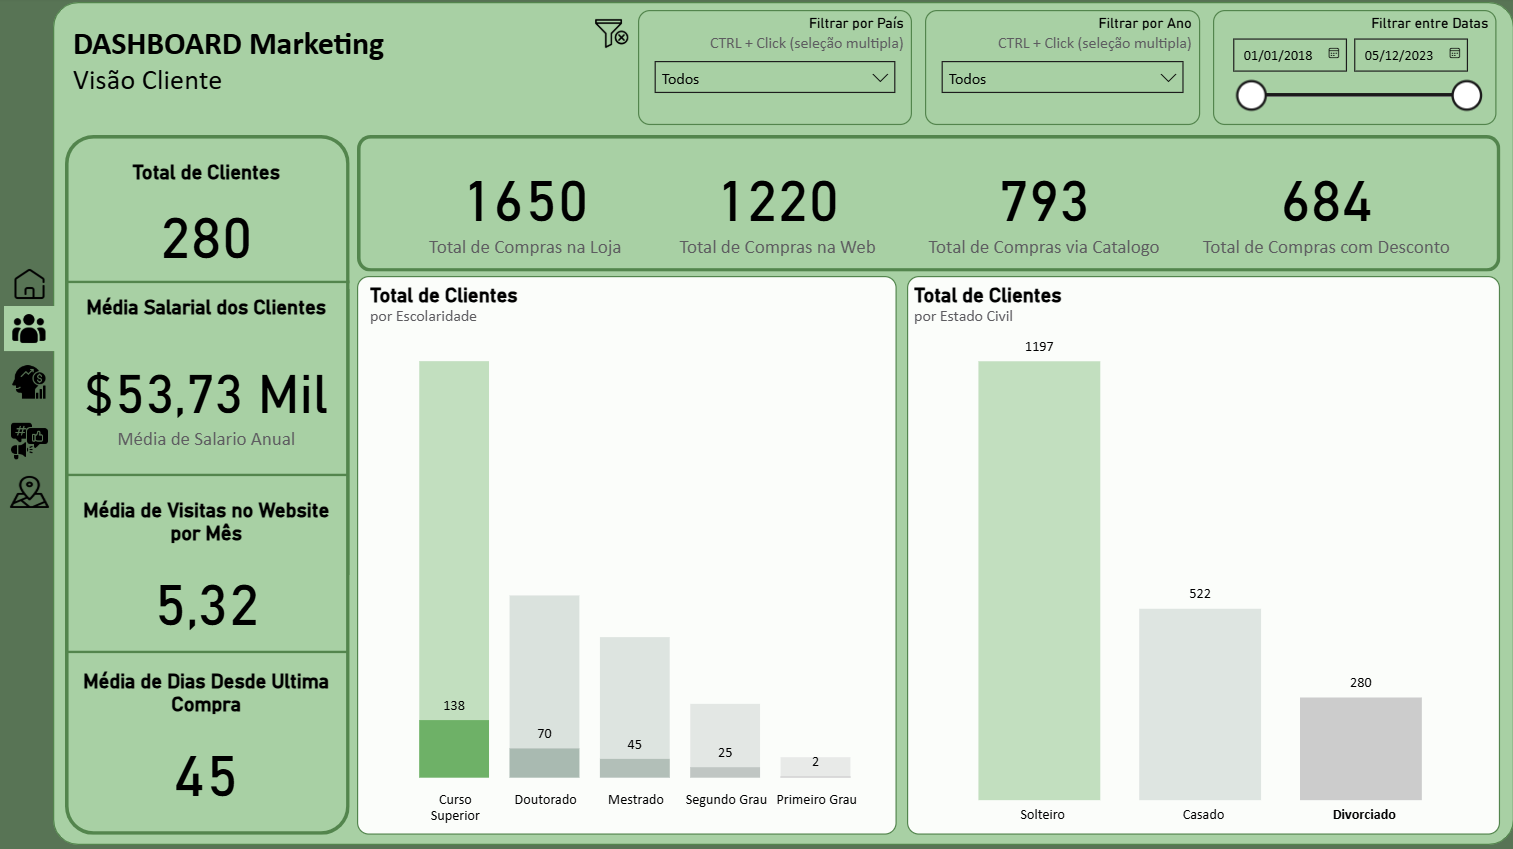

The page's visual inventory and layout, read from the dashboard file:
{"tool":"powerbi","page":{"name":"Visão Cliente","canvas":[1280,720],"ordinal":1},"visuals":[{"type":"group","id":"g1","title":"Grupo 1","box":[48.1,4.2,1231.8,710.7],"z":0},{"type":"shape","box":[48.1,4.2,1231.8,710.7],"z":0,"group":"g1"},{"type":"shape","title":"Total de Vendas por Frente e Método","box":[304.6,116.3,964,115.3],"z":0,"group":"g3"},{"type":"group","id":"g2","title":"Grupo 3","box":[58.3,116.4,240,590],"z":0,"group":"g4"},{"type":"shape","box":[58.3,116.4,240,590],"z":0,"group":"g2"},{"type":"textbox","box":[59.8,17.6,314,73.6],"z":1000,"group":"g1"},{"type":"group","id":"g3","title":"Grupo 1","box":[304.6,116.3,964,115.3],"z":1000},{"type":"card","title":"Total de Clientes","fields":{"Values":["CountNonNull(Dados_Marketing.ID)"]},"box":[65.2,137.8,224.6,101.2],"z":1000,"group":"g7"},{"type":"shape","box":[58.3,547.3,239.1,10],"z":1000,"group":"g4"},{"type":"slicer","title":"Filtrar por Ano","fields":{"Values":["Dados_Marketing.Data Cadastro.Variation.Hierarquia de datas.Ano"]},"box":[783.5,10.6,231.8,97.4],"z":2000,"group":"g1"},{"type":"columnChart","title":"Total de Clientes","fields":{"Category":["Dados_Marketing.Escolaridade"],"Y":["CountNonNull(Dados_Marketing.ID)"]},"box":[304.6,235.5,454.5,470.9],"z":2000},{"type":"card","title":"Média Salarial dos Clientes","fields":{"Values":["Avg(Dados_Marketing.Salario Anual)"]},"box":[64.2,251.9,226.4,156],"z":2000,"group":"g7"},{"type":"shape","box":[58.3,398.2,239.1,10],"z":2000,"group":"g4"},{"type":"slicer","title":"Filtrar por País","fields":{"Values":["Dados_Marketing.Pais"]},"box":[541.7,10.6,230.9,97.4],"z":3000,"group":"g1"},{"type":"card","fields":{"Values":["Sum(Dados_Marketing.Numero de Compras na Loja)"]},"box":[343.5,125.1,206.1,101.5],"z":3000,"group":"g3"},{"type":"shape","box":[59.2,235.5,239.1,10],"z":3000,"group":"g4"},{"type":"columnChart","title":"Total de Clientes","fields":{"Category":["Dados_Marketing.Estado Civil"],"Y":["CountNonNull(Dados_Marketing.ID)"]},"box":[768.3,235.5,500,470.9],"z":3000},{"type":"image","box":[7,398.9,42.7,37.3],"z":3000,"group":"g6"},{"type":"slicer","title":"Filtrar entre Datas","fields":{"Values":["Dados_Marketing.Data Cadastro"]},"box":[1026.2,10.6,239.1,97.4],"z":4000,"group":"g1"},{"type":"group","id":"g4","title":"Grupo 4","box":[58.3,116.4,240,590],"z":4000},{"type":"card","fields":{"Values":["Sum(Dados_Marketing.Numero de Compras na Web)"]},"box":[551.6,125.1,215.1,102.5],"z":4000,"group":"g3"},{"type":"image","box":[7,260.7,42.7,38.2],"z":4000,"group":"g6"},{"type":"card","title":"Média de Visitas no Website por Mês","fields":{"Values":["Avg(Dados_Marketing.Numero Visitas WebSite Mes)"]},"box":[64.2,422.9,226.4,130.4],"z":4000,"group":"g7"},{"type":"card","fields":{"Values":["Sum(Dados_Marketing.Numero de Compras via Catalogo)"]},"box":[768.6,125.1,231,101.5],"z":5000,"group":"g3"},{"type":"group","id":"g5","title":"Grupo 5","box":[7,223.6,42.7,212.7],"z":5000},{"type":"group","id":"g6","title":"Grupo 2","box":[7,260.7,42.7,175.5],"z":5000,"group":"g5"},{"type":"image","box":[7,303.4,42.7,41.8],"z":5000,"group":"g6"},{"type":"image","box":[498.9,11.9,39.8,37.8],"z":6000},{"type":"card","fields":{"Values":["Sum(Dados_Marketing.Numero de Compras com Desconto)"]},"box":[1001.6,125.1,240,101.5],"z":6000,"group":"g3"},{"type":"image","box":[7,223.6,42.6,37.2],"z":6000,"group":"g5"},{"type":"image","box":[7,349.8,42.7,48.2],"z":6000,"group":"g6"},{"type":"card","title":"Média de Dias Desde Ultima Compra","fields":{"Values":["Avg(Dados_Marketing.Dias Desde Ultima Compra)"]},"box":[64.1,567.1,226.4,130.4],"z":6000,"group":"g7"},{"type":"group","id":"g7","title":"Grupo 2","box":[64.1,137.8,226.4,559.7],"z":6001,"group":"g2"}]}

Visuals, with their boxes in screenshot pixels (x1, y1, x2, y2), scaled from the page's 1280x720 canvas onto the 1513x849 screenshot:
"Grupo 1" group: box(57, 5, 1512, 843)
shape: box(57, 5, 1512, 843)
"Total de Vendas por Frente e Método" shape: box(360, 137, 1500, 273)
"Grupo 3" group: box(69, 137, 353, 833)
shape: box(69, 137, 353, 833)
textbox: box(71, 21, 442, 108)
"Grupo 1" group: box(360, 137, 1500, 273)
"Total de Clientes" card: box(77, 162, 343, 282)
shape: box(69, 645, 352, 657)
"Filtrar por Ano" slicer: box(926, 12, 1200, 127)
"Total de Clientes" columnChart: box(360, 278, 897, 833)
"Média Salarial dos Clientes" card: box(76, 297, 343, 481)
shape: box(69, 470, 352, 481)
"Filtrar por País" slicer: box(640, 12, 913, 127)
card - Sum(Dados_Marketing.Numero de Compras na Loja): box(406, 148, 650, 267)
shape: box(70, 278, 353, 289)
"Total de Clientes" columnChart: box(908, 278, 1499, 833)
image: box(8, 470, 59, 514)
"Filtrar entre Datas" slicer: box(1213, 12, 1496, 127)
"Grupo 4" group: box(69, 137, 353, 833)
card - Sum(Dados_Marketing.Numero de Compras na Web): box(652, 148, 906, 268)
image: box(8, 307, 59, 352)
"Média de Visitas no Website por Mês" card: box(76, 499, 343, 652)
card - Sum(Dados_Marketing.Numero de Compras via Catalogo): box(909, 148, 1182, 267)
"Grupo 5" group: box(8, 264, 59, 514)
"Grupo 2" group: box(8, 307, 59, 514)
image: box(8, 358, 59, 407)
image: box(590, 14, 637, 59)
card - Sum(Dados_Marketing.Numero de Compras com Desconto): box(1184, 148, 1468, 267)
image: box(8, 264, 59, 308)
image: box(8, 412, 59, 469)
"Média de Dias Desde Ultima Compra" card: box(76, 669, 343, 822)
"Grupo 2" group: box(76, 162, 343, 822)
